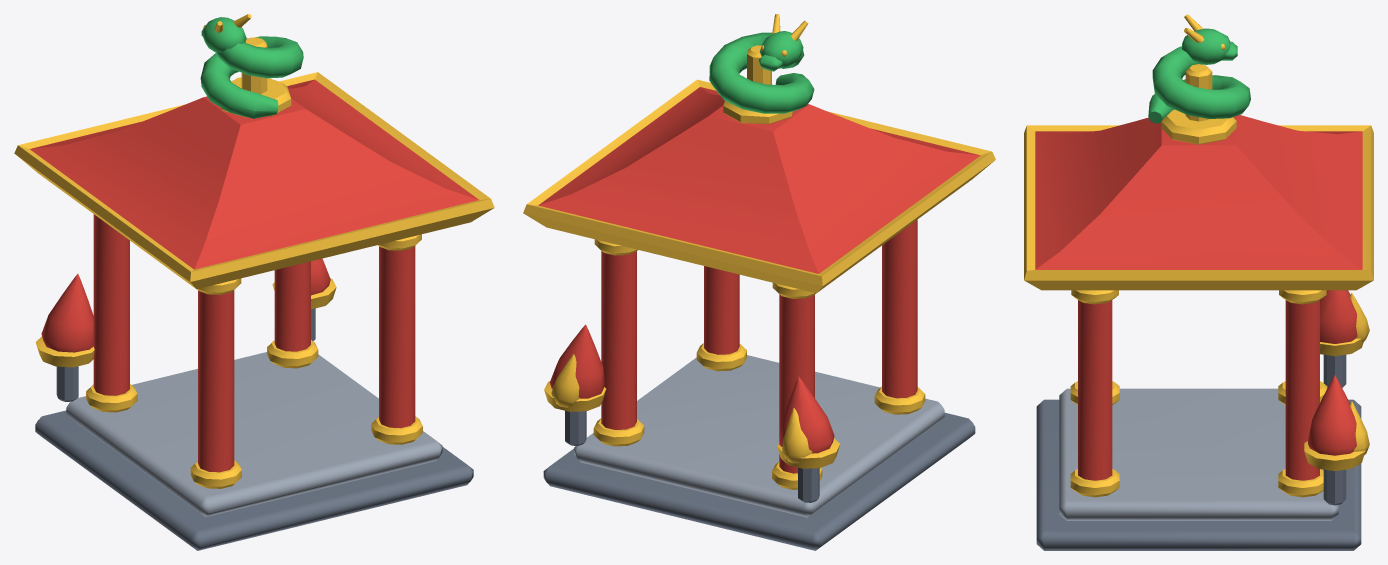
File: Equip_dragon_shrine.glb
3 renders of one model, left to right at view 1: azimuth 30°, elevation 25°; view 2: azimuth 150°, elevation 25°; view 3: azimuth 270°, elevation 25°, orthographic.
Parts seen in each view (by area): view 1: Red_E0453C, Stone_9AA4B2, Gold_FFC83D, DarkStone_6B7686, Dragon_3FBF6A; view 2: Red_E0453C, Stone_9AA4B2, Gold_FFC83D, DarkStone_6B7686, Dragon_3FBF6A; view 3: Red_E0453C, Stone_9AA4B2, Gold_FFC83D, DarkStone_6B7686, Dragon_3FBF6A.
Boxes of the visible parts, x1=… form: Red_E0453C: x1=30, y1=79, x2=478, y2=472; Stone_9AA4B2: x1=66, y1=352, x2=442, y2=516; Gold_FFC83D: x1=14, y1=14, x2=494, y2=488; DarkStone_6B7686: x1=35, y1=308, x2=473, y2=550; Dragon_3FBF6A: x1=200, y1=17, x2=303, y2=118; Red_E0453C: x1=538, y1=87, x2=980, y2=473; Stone_9AA4B2: x1=574, y1=355, x2=944, y2=517; Gold_FFC83D: x1=523, y1=14, x2=995, y2=489; DarkStone_6B7686: x1=543, y1=411, x2=975, y2=550; Dragon_3FBF6A: x1=709, y1=31, x2=814, y2=113; Red_E0453C: x1=1035, y1=115, x2=1362, y2=480; Stone_9AA4B2: x1=1059, y1=388, x2=1338, y2=520; Gold_FFC83D: x1=1024, y1=14, x2=1373, y2=497; DarkStone_6B7686: x1=1036, y1=354, x2=1361, y2=550; Dragon_3FBF6A: x1=1148, y1=28, x2=1250, y2=123.
Bounding box in the file's own units: 9.26 × 13.2 × 9.26.
